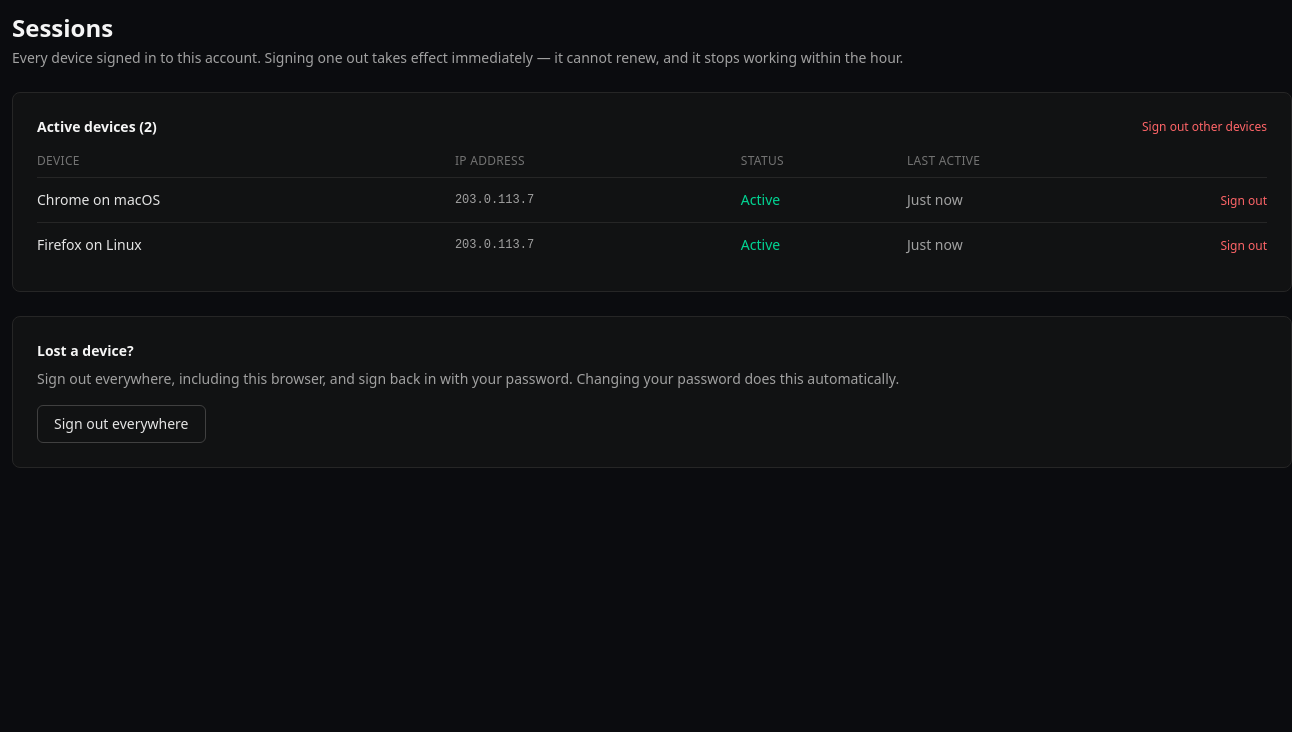
Test: SessionsPage › signs out other devices while keeping this one
Click the button "Sign out other devices" at (1204, 127), box [1142, 119, 1267, 135]
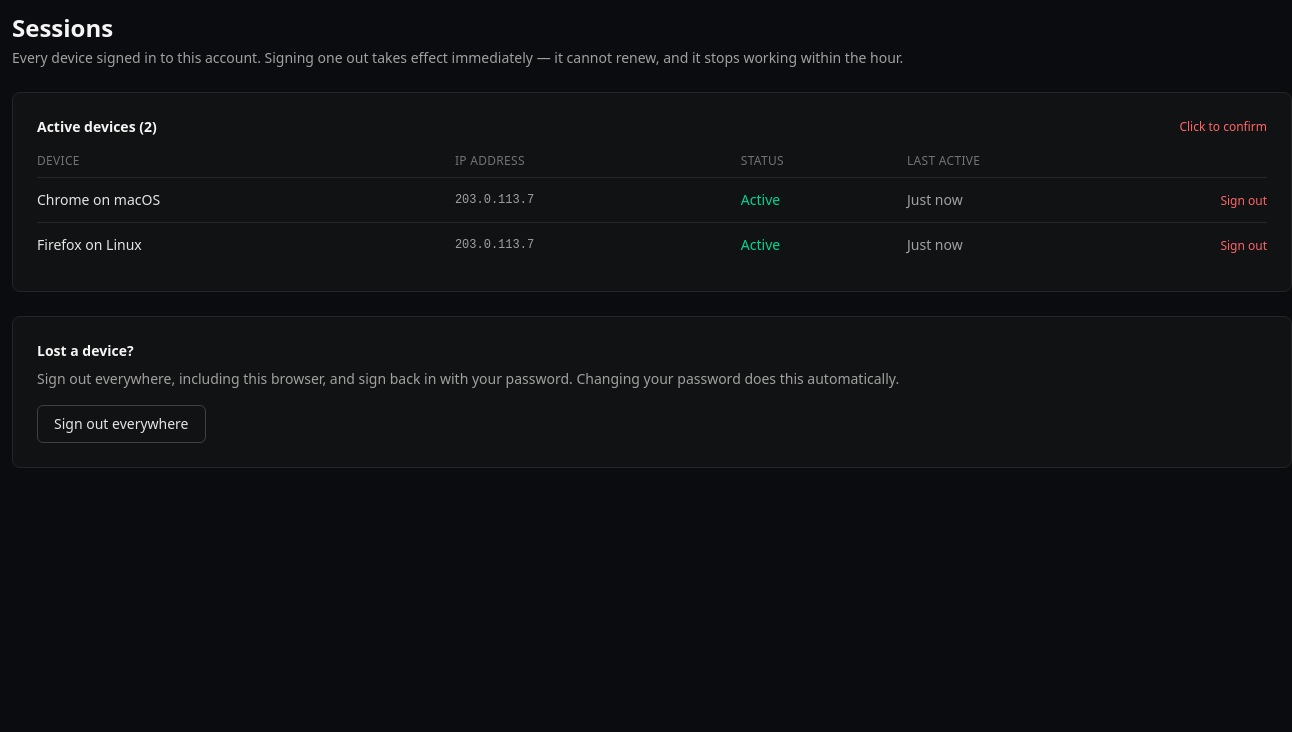
Click the button "Click to confirm" at (1223, 127), box [1179, 119, 1267, 135]
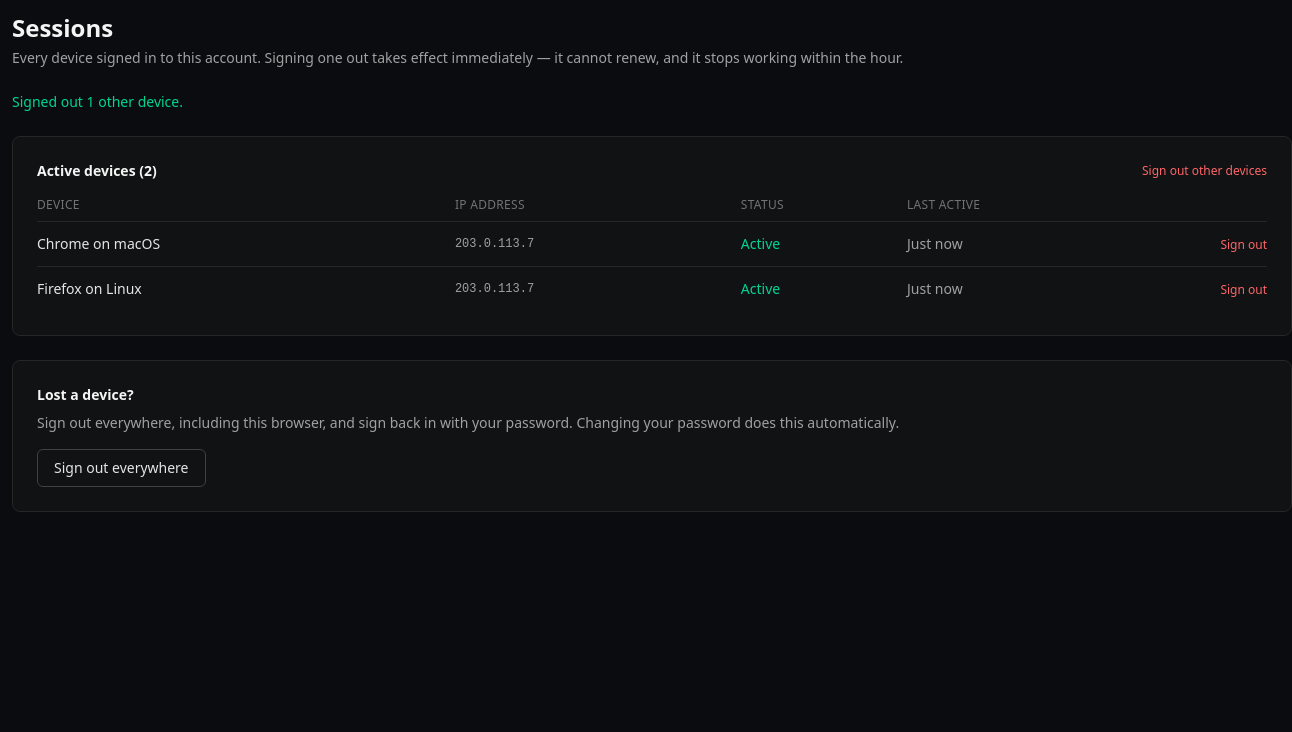
Expected: the message reads "Signed out 1 other device.", [12, 92, 183, 111]
